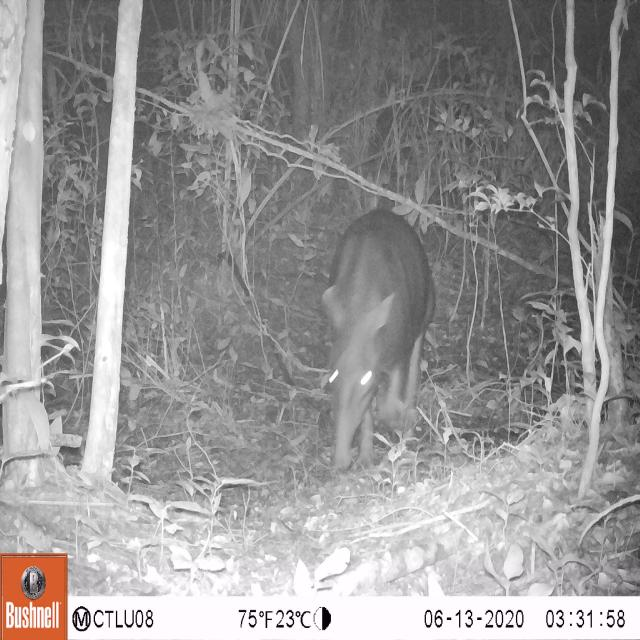Lowland Tapir: (319, 201, 448, 485)
